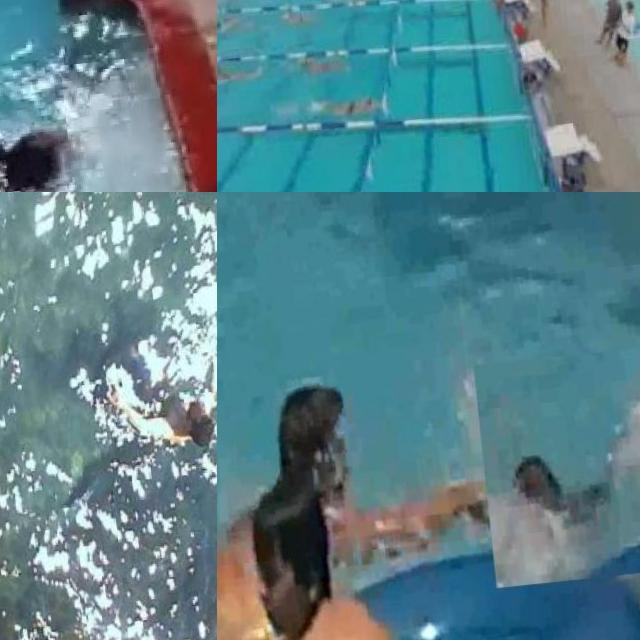drowning: (473, 342, 640, 589)
swimming: (303, 378, 483, 558), (246, 489, 355, 640), (96, 352, 217, 464), (0, 77, 107, 192), (317, 81, 372, 118), (217, 60, 261, 87), (303, 46, 338, 71), (217, 8, 238, 32), (344, 0, 390, 10), (282, 12, 302, 34)
